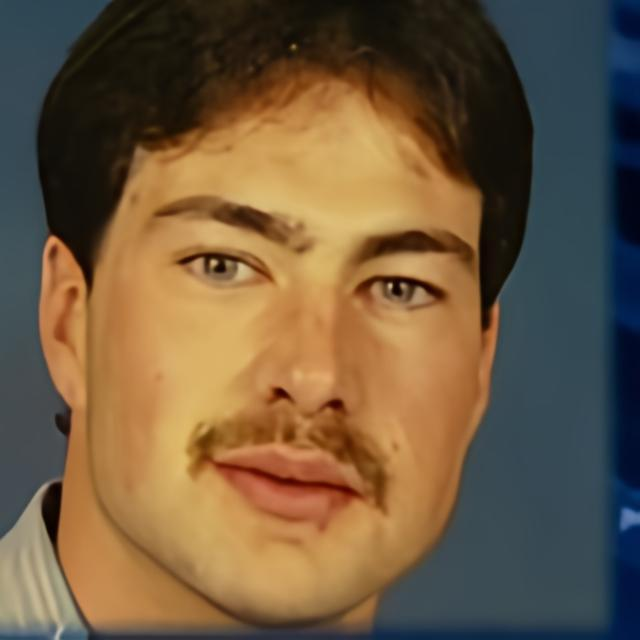neutral: (86, 50, 480, 616)
